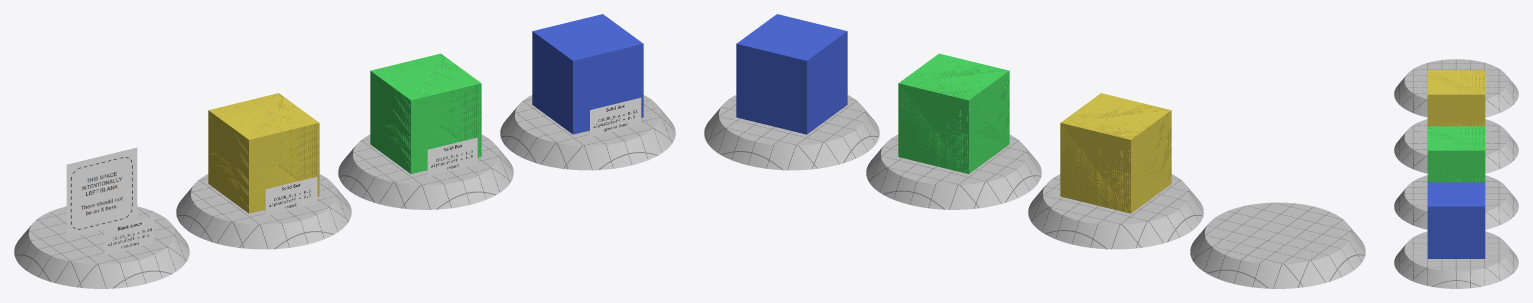
The model's file is VertexColorAlphaClipTest.glb.
3 views of the same model, side by side, from view 1: azimuth 30°, elevation 25°; view 2: azimuth 150°, elevation 25°; view 3: azimuth 270°, elevation 25° (orthographic). The views are drawn at different scales.
Visible parts, largest first — view 1: Cube_100, Base_048, Cube_051, Cube_050, Base_050, Base_051, Base_100, Intentionally Left Blank; view 2: Base_048, Cube_050, Cube_051, Cube_100, Base_100, Base_050, Base_051; view 3: Cube_051, Base_051, Cube_050, Cube_100, Base_048, Base_050, Base_100.
Part boxes in pixels (bbox=[...]): Cube_100: bbox=[370, 53, 481, 173]; Base_048: bbox=[14, 206, 189, 288]; Cube_051: bbox=[532, 14, 643, 134]; Cube_050: bbox=[208, 93, 319, 213]; Base_050: bbox=[176, 174, 351, 249]; Base_051: bbox=[500, 95, 675, 170]; Base_100: bbox=[338, 134, 513, 209]; Intentionally Left Blank: bbox=[66, 147, 137, 238]; Base_048: bbox=[1190, 202, 1365, 288]; Cube_050: bbox=[1060, 93, 1171, 213]; Cube_051: bbox=[736, 14, 847, 134]; Cube_100: bbox=[898, 53, 1009, 173]; Base_100: bbox=[866, 124, 1041, 209]; Base_050: bbox=[1028, 163, 1203, 249]; Base_051: bbox=[704, 95, 879, 170]; Cube_051: bbox=[1427, 182, 1485, 258]; Base_051: bbox=[1394, 231, 1518, 288]; Cube_050: bbox=[1427, 70, 1485, 131]; Cube_100: bbox=[1427, 126, 1485, 182]; Base_048: bbox=[1394, 59, 1518, 117]; Base_050: bbox=[1394, 119, 1518, 173]; Base_100: bbox=[1394, 175, 1518, 229].
Size of the model in its own units: 18.12 by 2.66 by 4.32.
Materials: 7 (3 with a texture image).
